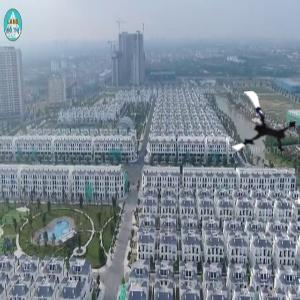drone: (227, 95, 299, 167)
